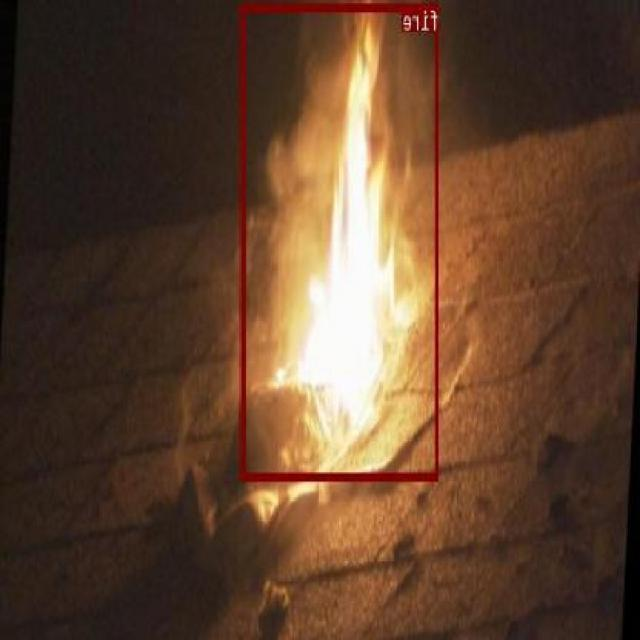Fire: (242, 3, 441, 480)
